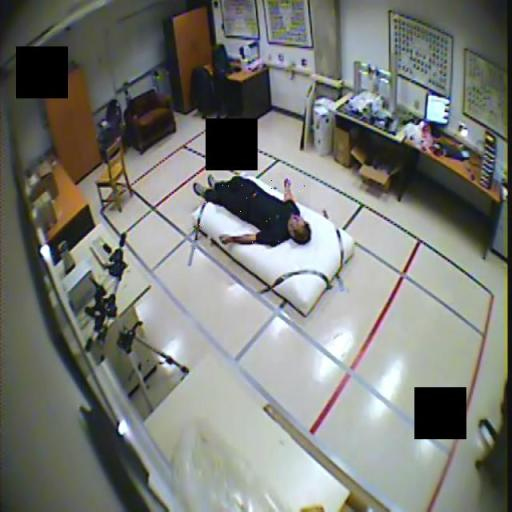Fall: (193, 173, 310, 249)
